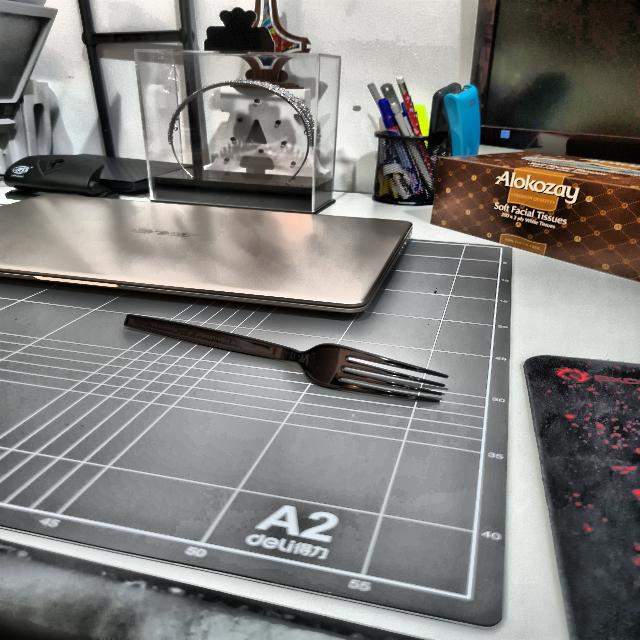plastic utensil: (124, 312, 451, 408)
